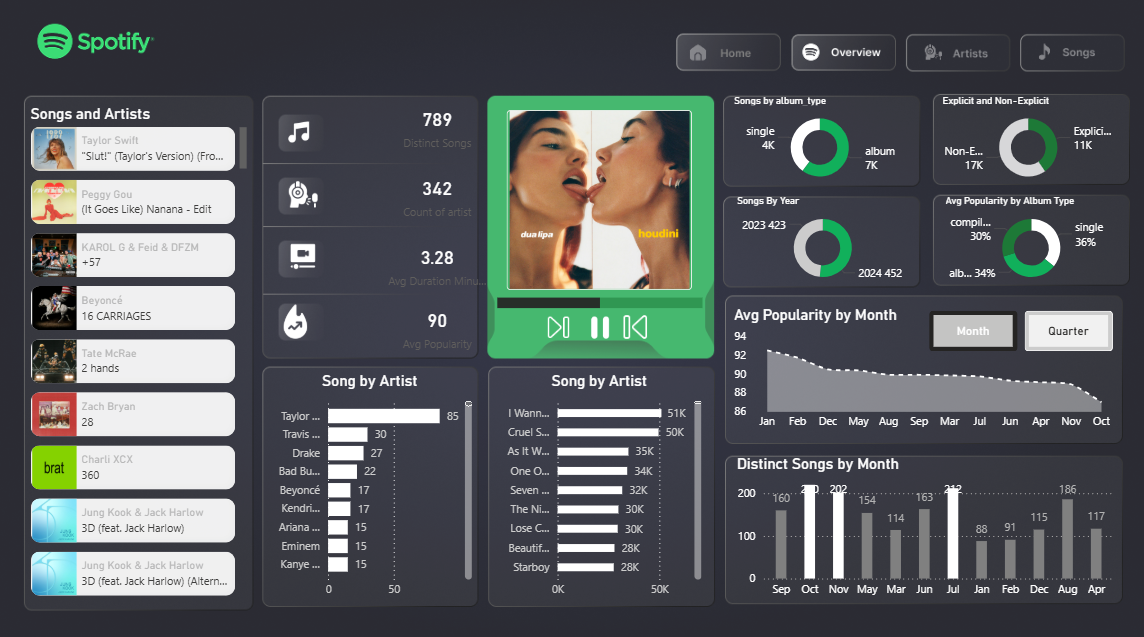

The page's visual inventory and layout, read from the dashboard file:
{"tool":"powerbi","page":{"name":"Page 1","canvas":[1280,720],"ordinal":1},"visuals":[{"type":"clusteredBarChart","title":"Song by Artist","fields":{"Category":["Top-50-world.artist"],"Y":["_Measures.Distinct Songs"]},"box":[296.3,416.7,237,259.3],"z":0},{"type":"clusteredBarChart","title":"Song by Artist","fields":{"Category":["Top-50-world.song"],"Y":["Sum(Top-50-world.popularity)"]},"box":[551.9,416.7,237,259.3],"z":1000},{"type":"areaChart","fields":{"Y":["Top-50-world.Avg Popularity"],"Category":["Top-50-world.Month"]},"box":[814.8,342.6,431.5,146.3],"z":2000},{"type":"advancedSlicerVisual","fields":{"Values":["Slices_of _options.Slices_of _options"]},"box":[1031.8,342.7,214.5,55.5],"z":3000},{"type":"donutChart","title":"Songs by album_type","fields":{"Y":["_Measures.Explicit Songs"],"Category":["Top-50-world.album_type"]},"box":[815,108.3,200,105],"z":4000},{"type":"donutChart","title":"Explicit and Non-Explicit","fields":{"Y":["_Measures.Explicit Songs","_Measures.Non-Explicit Songs"]},"box":[1046.7,108.3,200,105],"z":5000},{"type":"donutChart","title":"Songs By Year","fields":{"Category":["Top-50-world.YEAR"],"Y":["_Measures.Distinct Songs"]},"box":[817.7,219.7,200,105],"z":6000},{"type":"donutChart","title":"Avg Popularity by Album Type","fields":{"Y":["Top-50-world.Avg Popularity"],"Category":["Top-50-world.album_type"]},"box":[1049.3,219.7,200,105],"z":7000},{"type":"clusteredColumnChart","fields":{"Category":["Top-50-world.Month"],"Y":["_Measures.Distinct Songs"]},"box":[818,508,428,168],"z":8000},{"type":"card","fields":{"Values":["_Measures.Distinct Songs"]},"box":[430,108.2,120,70],"z":9000},{"type":"card","fields":{"Values":["Count(Top-50-world.artist)"]},"box":[430,184.5,120,70],"z":10000},{"type":"card","fields":{"Values":["_Measures.Avg Duration Minutes"]},"box":[430,261.8,120,70],"z":11000},{"type":"card","fields":{"Values":["Top-50-world.Avg Popularity"]},"box":[430,331.7,120,70],"z":12000},{"type":"advancedSlicerVisual","title":"Songs and Artists","fields":{"Values":["Top-50-world.song"]},"box":[33.3,120,250,556.7],"z":13000},{"type":"cardVisual","fields":{"Data":["Min(Top-50-world.album_cover_url)"]},"box":[550,108,240,234],"z":14000},{"type":"hundredPercentStackedBarChart","fields":{"Y":["Top-50-world.Avg Popularity","Avg(Top-50-world.popularity)"]},"box":[551.8,304.5,238.2,61.8],"z":15000},{"type":"image","box":[610,352.7,30,27.3],"z":16000},{"type":"image","box":[650.9,354.5,39.1,24.5],"z":17000},{"type":"image","box":[690,351.8,40.9,30],"z":18000},{"type":"image","box":[315,342,47,38],"z":19000},{"type":"image","box":[320,272,42,33],"z":20000},{"type":"image","box":[323,204,36,32],"z":21000},{"type":"image","box":[323,138,26,23],"z":22000}]}

Visuals, with their boxes in screenshot pixels (x1, y1, x2, y2), scaled from the page's 1280x720 canvas onto the 1144x637 screenshot:
"Song by Artist" clusteredBarChart: (x1=265, y1=369, x2=477, y2=598)
"Song by Artist" clusteredBarChart: (x1=493, y1=369, x2=705, y2=598)
areaChart - Top-50-world.Avg Popularity x Top-50-world.Month: (x1=728, y1=303, x2=1114, y2=433)
advancedSlicerVisual - Slices_of _options.Slices_of _options: (x1=922, y1=303, x2=1114, y2=352)
"Songs by album_type" donutChart: (x1=728, y1=96, x2=907, y2=189)
"Explicit and Non-Explicit" donutChart: (x1=935, y1=96, x2=1114, y2=189)
"Songs By Year" donutChart: (x1=731, y1=194, x2=910, y2=287)
"Avg Popularity by Album Type" donutChart: (x1=938, y1=194, x2=1117, y2=287)
clusteredColumnChart - Top-50-world.Month x _Measures.Distinct Songs: (x1=731, y1=449, x2=1114, y2=598)
card - _Measures.Distinct Songs: (x1=384, y1=96, x2=492, y2=158)
card - Count(Top-50-world.artist): (x1=384, y1=163, x2=492, y2=225)
card - _Measures.Avg Duration Minutes: (x1=384, y1=232, x2=492, y2=294)
card - Top-50-world.Avg Popularity: (x1=384, y1=293, x2=492, y2=355)
"Songs and Artists" advancedSlicerVisual: (x1=30, y1=106, x2=253, y2=599)
cardVisual - Min(Top-50-world.album_cover_url): (x1=492, y1=96, x2=706, y2=303)
hundredPercentStackedBarChart - Top-50-world.Avg Popularity x Avg(Top-50-world.popularity): (x1=493, y1=269, x2=706, y2=324)
image: (x1=545, y1=312, x2=572, y2=336)
image: (x1=582, y1=314, x2=617, y2=335)
image: (x1=617, y1=311, x2=653, y2=338)
image: (x1=282, y1=303, x2=324, y2=336)
image: (x1=286, y1=241, x2=324, y2=270)
image: (x1=289, y1=180, x2=321, y2=209)
image: (x1=289, y1=122, x2=312, y2=142)
